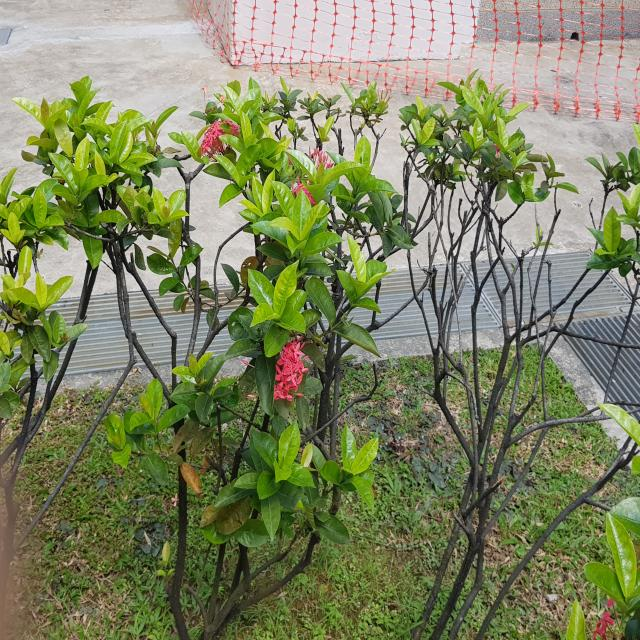Chinese-Ixora: (272, 335, 310, 402), (291, 146, 334, 204), (200, 119, 242, 163), (592, 597, 626, 640), (200, 86, 226, 114)
